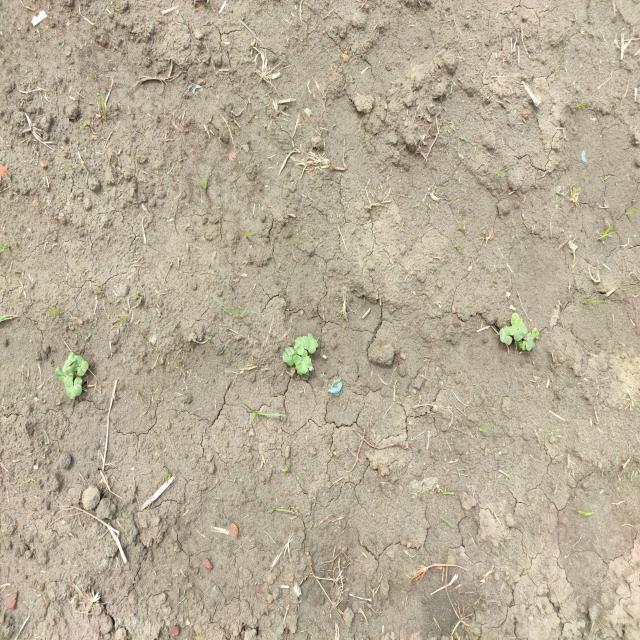seedling_s1: (294, 355, 308, 374), (514, 322, 527, 341), (70, 356, 84, 372), (63, 353, 77, 369), (295, 336, 310, 349), (508, 320, 521, 335), (77, 361, 89, 376), (73, 377, 82, 397), (64, 369, 74, 387), (301, 350, 311, 368), (55, 367, 66, 383), (65, 382, 75, 399), (283, 347, 294, 362), (287, 351, 298, 366), (294, 342, 305, 355), (500, 334, 513, 345), (308, 333, 318, 347), (526, 332, 532, 351), (307, 341, 316, 353), (499, 326, 511, 335), (511, 312, 518, 325), (531, 334, 535, 348)
